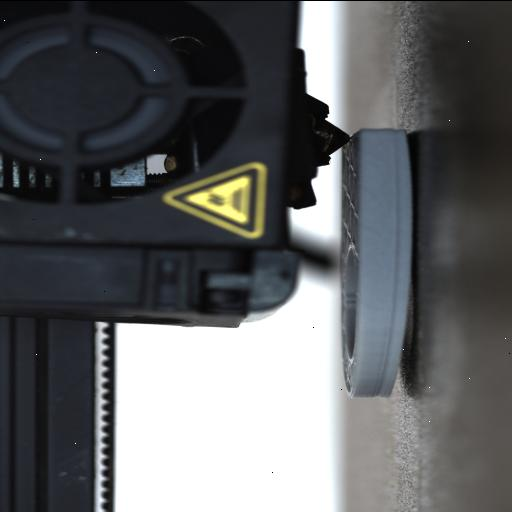warp: (390, 124, 422, 192)
